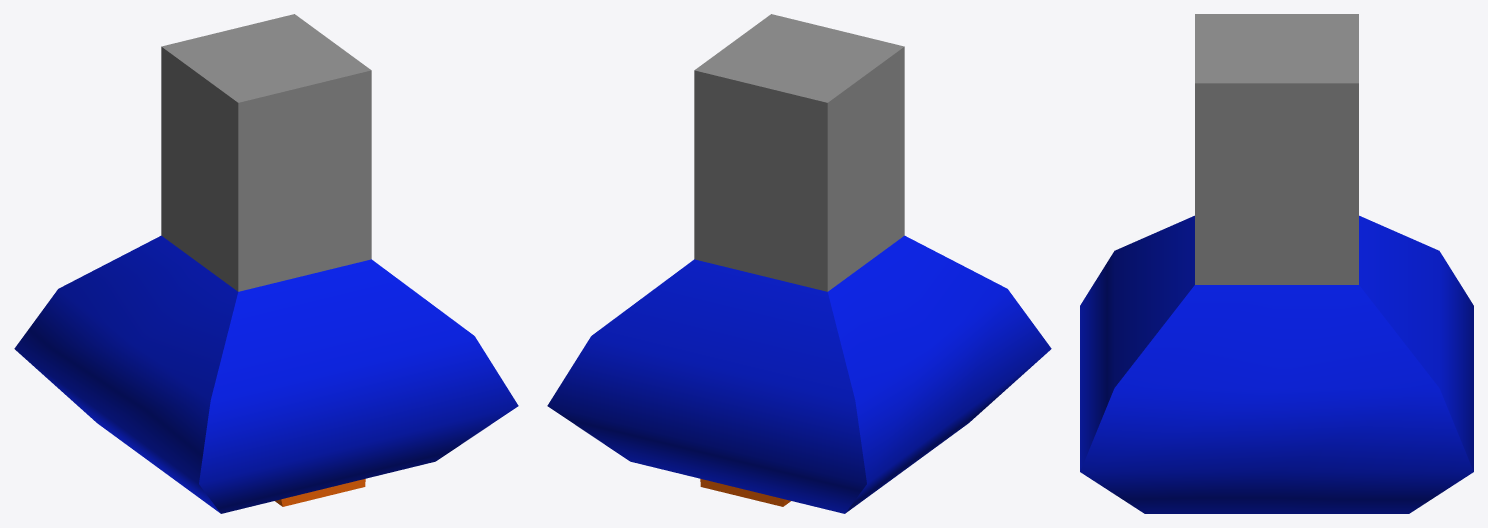
The model's file is Anim_TestSwitchLegs.fbx.
The picture shows the model from 3 angles, left to right: view 1: azimuth 30°, elevation 25°; view 2: azimuth 150°, elevation 25°; view 3: azimuth 270°, elevation 25°; orthographic projection. The views are drawn at different scales.
Visible parts, largest first — view 1: Combine; view 2: Combine; view 3: Combine.
Part boxes in pixels (x1,y1,x2,y2): Combine: (14,14,518,513); Combine: (547,14,1051,513); Combine: (1080,14,1473,513).
Size of the model in its own units: 3.78 by 4.47 by 3.78.
